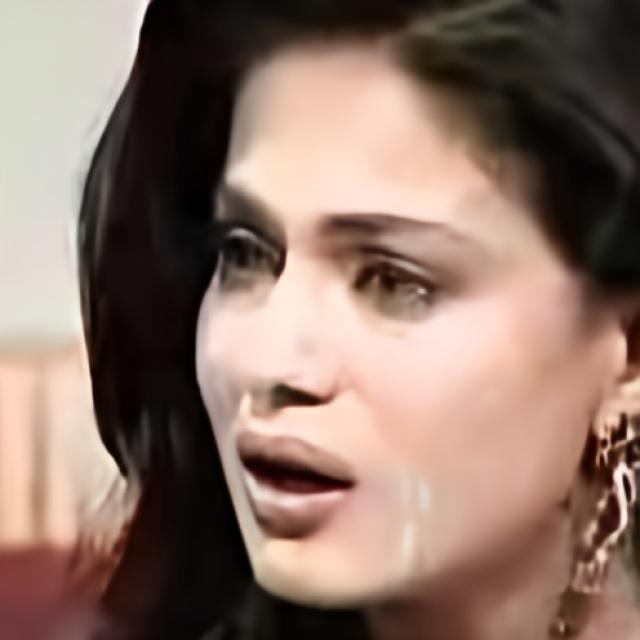sad: (190, 38, 592, 611)
